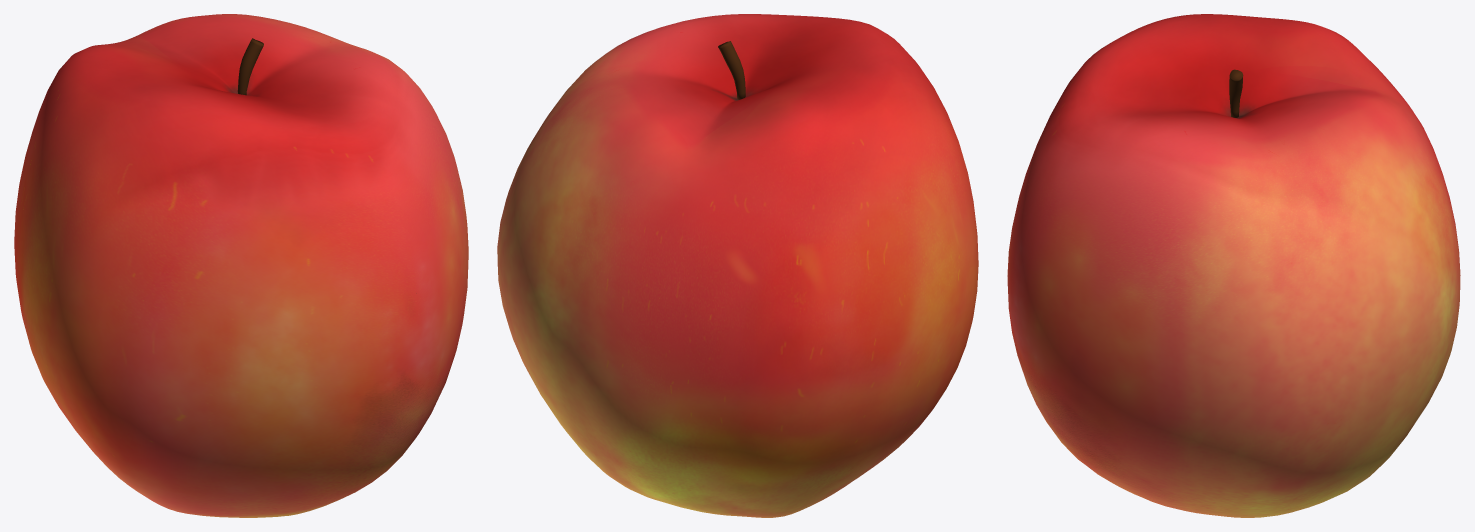
File: apple1.fbx
3 renders of one model, left to right at view 1: azimuth 30°, elevation 25°; view 2: azimuth 150°, elevation 25°; view 3: azimuth 270°, elevation 25°, orthographic. The views are drawn at different scales.
Parts seen in each view (by area): view 1: Apple_Cube, Cylinder; view 2: Apple_Cube, Cylinder; view 3: Apple_Cube, Cylinder.
Boxes of the visible parts, x1,y1,x2,y2 form: Apple_Cube: (14, 14, 468, 517); Cylinder: (237, 38, 263, 95); Apple_Cube: (497, 14, 978, 517); Cylinder: (718, 41, 745, 99); Apple_Cube: (1007, 14, 1460, 517); Cylinder: (1229, 69, 1243, 117).
Size of the model in its own units: 2.33 by 2.43 by 2.31.
Materials: 2 (1 with a texture image).
